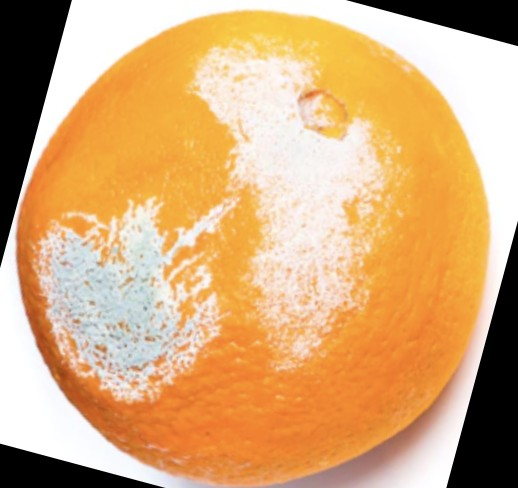rotten_orange: (16, 9, 490, 488)
